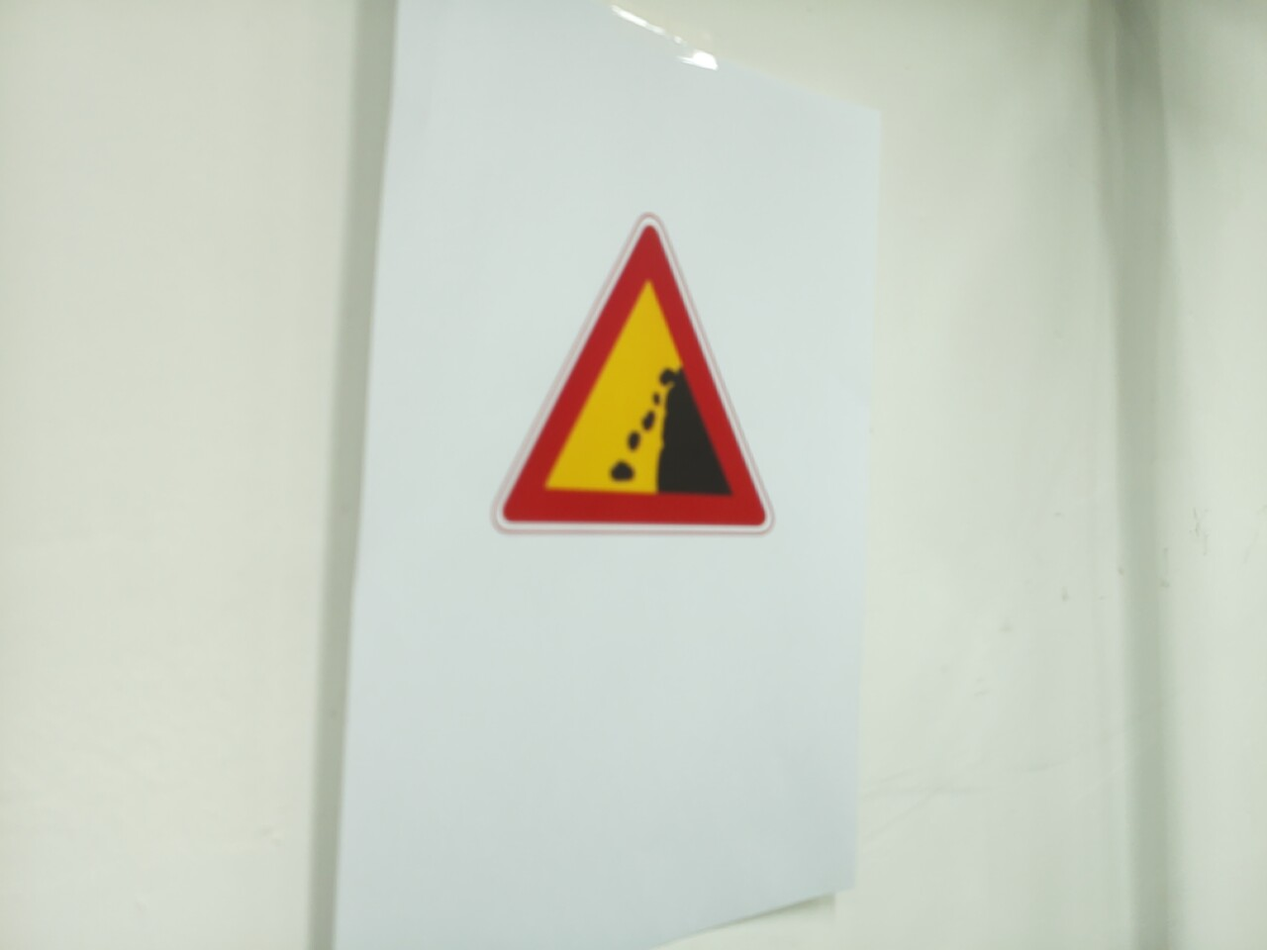falling_rocks: (494, 216, 775, 536)
